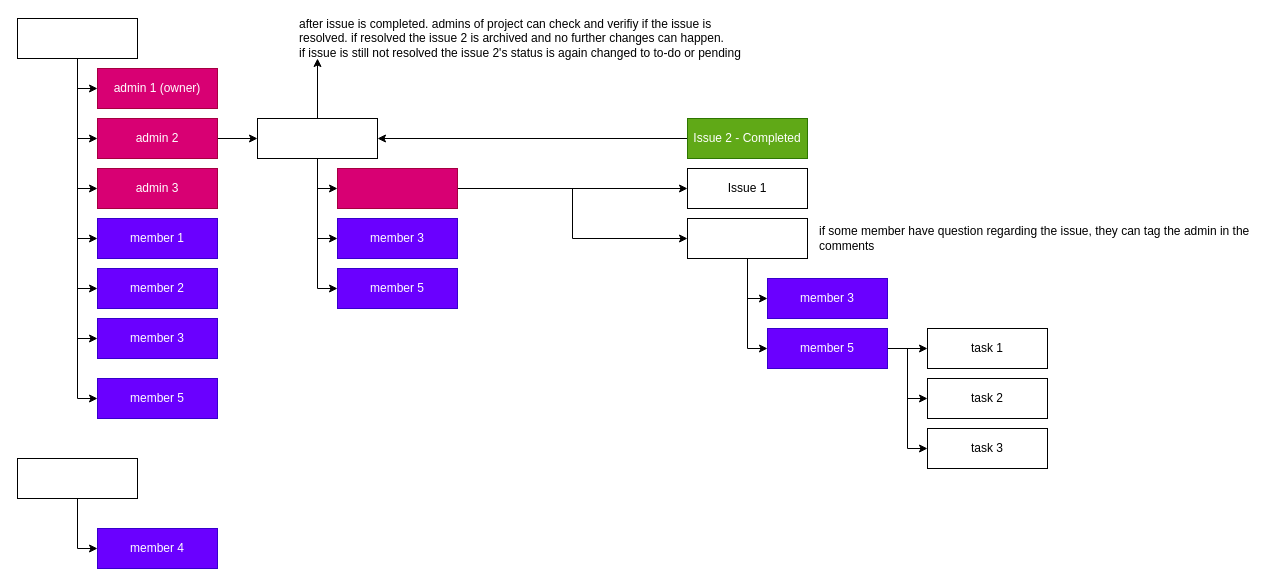
Image size: 1275x586. Some labels were removed from this diagram. The centre of each missing label's shape, as x and y in pixels:
admin 2 (owner): (397,188)
Issue 2: (747,238)
project 1: (317,138)
workspace 1: (77,38)
workspace 2: (77,478)
